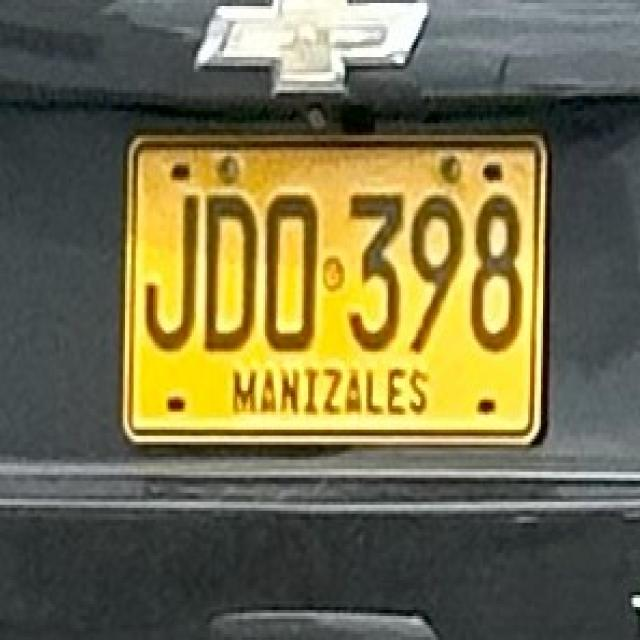number plate: (121, 132, 543, 439)
